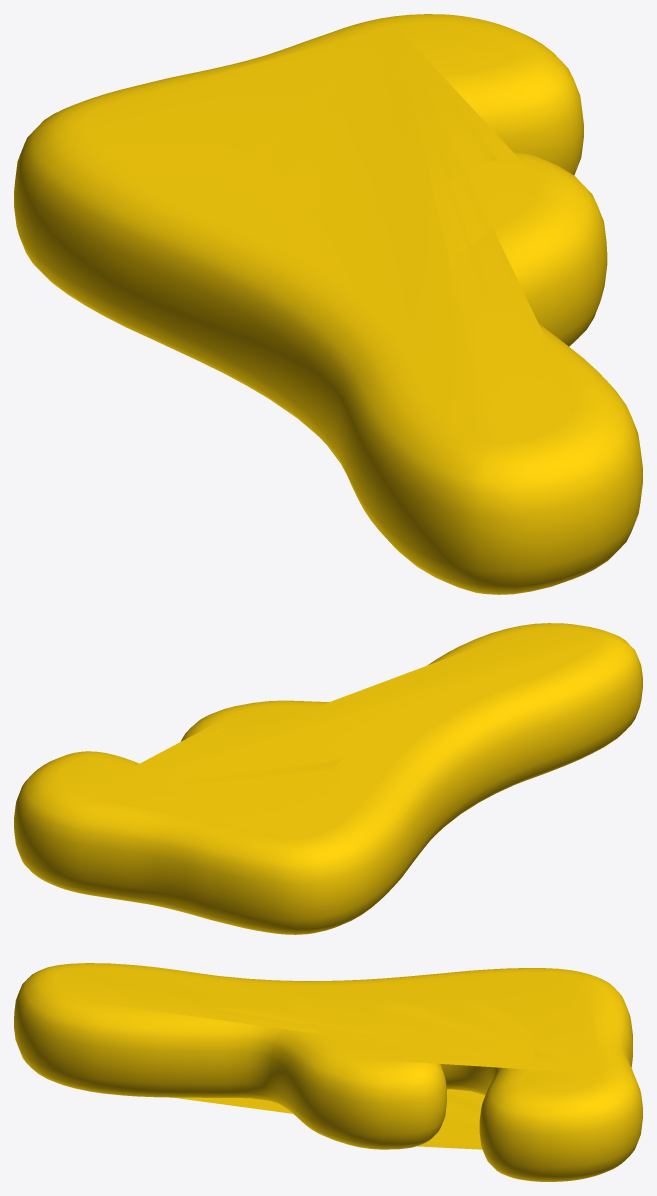
The picture shows the model from 3 angles, top to bottom: view 1: azimuth 30°, elevation 25°; view 2: azimuth 150°, elevation 25°; view 3: azimuth 270°, elevation 25°; orthographic projection. The views are drawn at different scales.
Parts seen in each view (by area): view 1: Curve.007; view 2: Curve.007; view 3: Curve.007.
Boxes of the visible parts, x1,y1,x2,y2 form: Curve.007: (14, 14, 642, 594); Curve.007: (14, 623, 642, 934); Curve.007: (14, 963, 642, 1181).
Size of the model in its own units: 200 by 49.54 by 334.
1 material, 1 textured.
